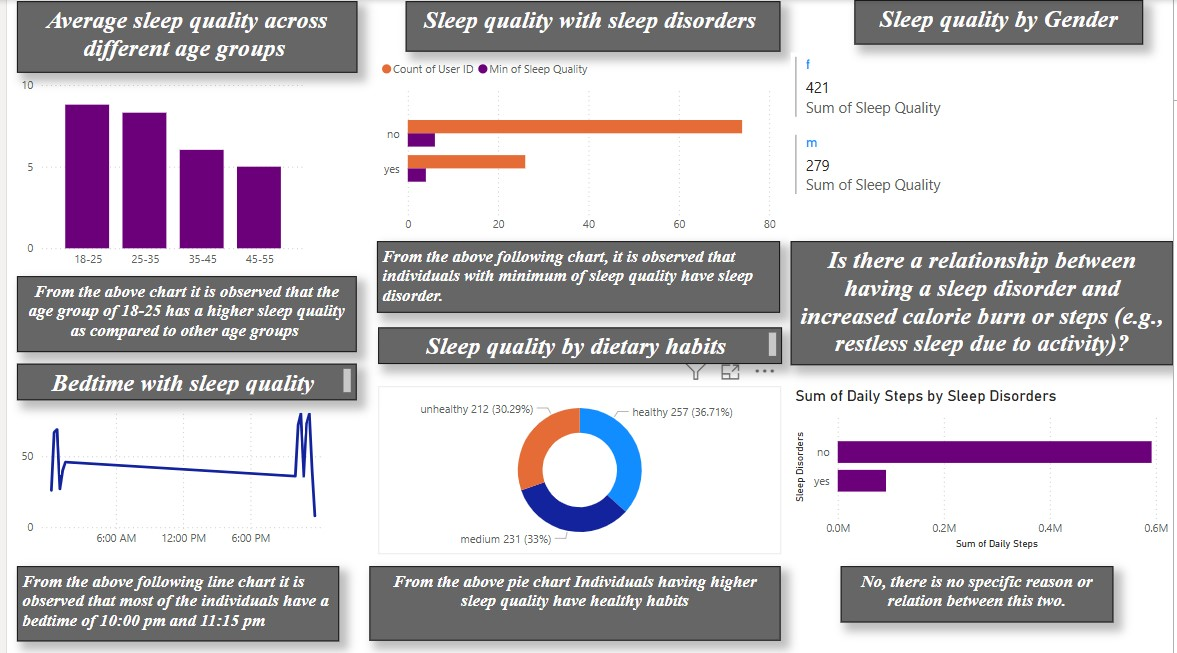

The page's visual inventory and layout, read from the dashboard file:
{"tool":"powerbi","page":{"name":"Page 3","canvas":[1280,720],"ordinal":2},"visuals":[{"type":"columnChart","fields":{"Y":["Avg(Health_Sleep_Statistics.Sleep Quality)"],"Category":["Health_Sleep_Statistics.Age Group "]},"box":[10.9,79.6,322.1,223.2],"z":0},{"type":"textbox","box":[10.9,1.2,374,78.4],"z":1000},{"type":"textbox","box":[11.4,302.9,372.9,82.9],"z":2000},{"type":"lineChart","fields":{"Y":["Sum(Health_Sleep_Statistics.Sleep Quality)"],"Category":["Health_Sleep_Statistics.Bedtime"]},"box":[11.4,440,354.3,168.6],"z":3000},{"type":"textbox","box":[11.4,400,372.9,40],"z":4000},{"type":"textbox","box":[10.9,621.3,353.5,82],"z":5000},{"type":"clusteredBarChart","fields":{"Category":["Health_Sleep_Statistics.Sleep Disorders"],"Y":["CountNonNull(Health_Sleep_Statistics.User ID)","Min(Health_Sleep_Statistics.Sleep Quality)"]},"box":[406.6,56.7,442.8,208.7],"z":6000},{"type":"textbox","box":[437.9,1.2,411.4,55.5],"z":7000},{"type":"textbox","box":[406.6,265.4,442.8,78.4],"z":8000},{"type":"donutChart","fields":{"Category":["Health_Sleep_Statistics.Dietary Habits"],"Y":["Sum(Health_Sleep_Statistics.Sleep Quality)"]},"box":[407.1,424.3,442.9,184.3],"z":9000},{"type":"textbox","box":[407.1,360,442.9,40],"z":10000},{"type":"textbox","box":[398.6,621.4,451.4,81.4],"z":11000},{"type":"multiRowCard","fields":{"Values":["Health_Sleep_Statistics.Gender","Sum(Health_Sleep_Statistics.Sleep Quality)"]},"box":[860.4,57.6,419.9,207.2],"z":12000},{"type":"textbox","box":[930,0,317.1,48.6],"z":13000},{"type":"clusteredBarChart","fields":{"Category":["Health_Sleep_Statistics.Sleep Disorders"],"Y":["Sum(Health_Sleep_Statistics.Daily Steps)"]},"box":[860,424.3,420,184.3],"z":14000},{"type":"textbox","box":[860,264.3,420,135.7],"z":15000},{"type":"textbox","box":[915.3,621.6,299.1,61.7],"z":16000}]}

Visuals, with their boxes in screenshot pixels (x1, y1, x2, y2), scaled from the page's 1280x720 canvas onto the 1177x653 screenshot:
columnChart - Avg(Health_Sleep_Statistics.Sleep Quality) x Health_Sleep_Statistics.Age Group : box=[10, 72, 306, 275]
textbox: box=[10, 1, 354, 72]
textbox: box=[10, 275, 353, 350]
lineChart - Sum(Health_Sleep_Statistics.Sleep Quality) x Health_Sleep_Statistics.Bedtime: box=[10, 399, 336, 552]
textbox: box=[10, 363, 353, 399]
textbox: box=[10, 563, 335, 638]
clusteredBarChart - Health_Sleep_Statistics.Sleep Disorders x CountNonNull(Health_Sleep_Statistics.User ID): box=[374, 51, 781, 241]
textbox: box=[403, 1, 781, 51]
textbox: box=[374, 241, 781, 312]
donutChart - Health_Sleep_Statistics.Dietary Habits x Sum(Health_Sleep_Statistics.Sleep Quality): box=[374, 385, 782, 552]
textbox: box=[374, 326, 782, 363]
textbox: box=[367, 564, 782, 637]
multiRowCard - Health_Sleep_Statistics.Gender x Sum(Health_Sleep_Statistics.Sleep Quality): box=[791, 52, 1176, 240]
textbox: box=[855, 0, 1147, 44]
clusteredBarChart - Health_Sleep_Statistics.Sleep Disorders x Sum(Health_Sleep_Statistics.Daily Steps): box=[791, 385, 1176, 552]
textbox: box=[791, 240, 1176, 363]
textbox: box=[842, 564, 1117, 620]
